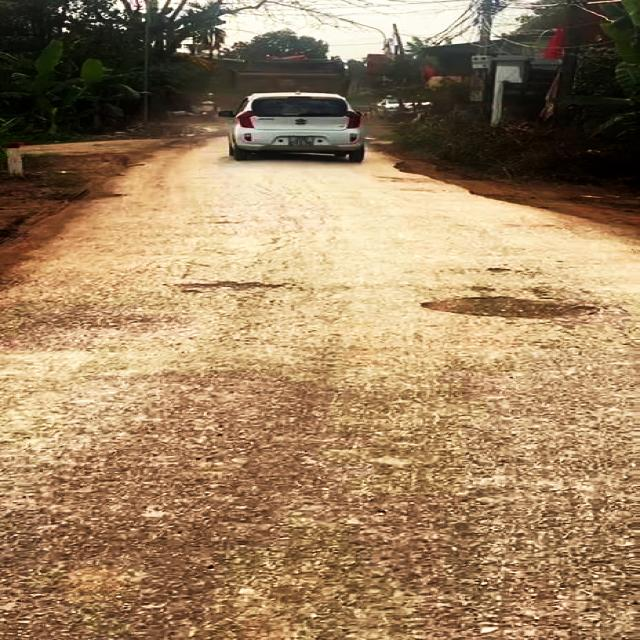pothole: (424, 290, 602, 324)
